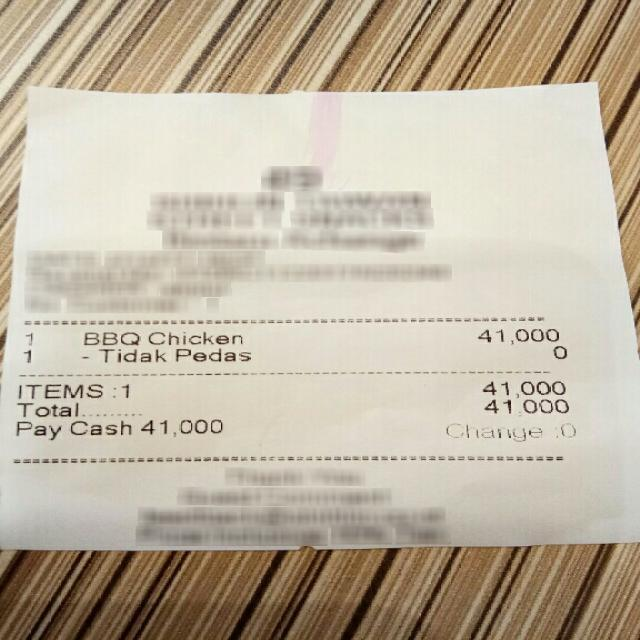kertas: (2, 85, 639, 552)
